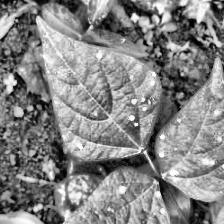Bean Rust: (34, 17, 160, 153), (156, 60, 224, 202), (46, 162, 169, 224)
